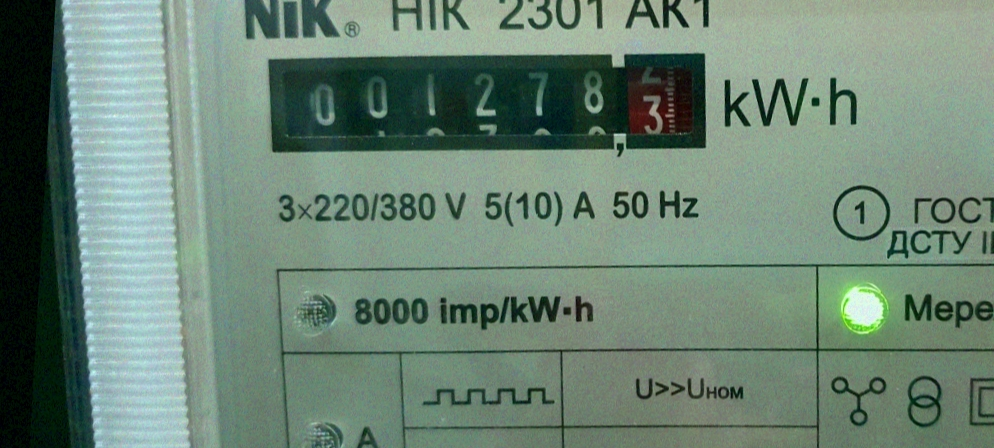0: (309, 78, 340, 128), (362, 72, 390, 120)
1: (421, 69, 441, 118)
2: (469, 69, 499, 117), (636, 63, 663, 86)
3: (637, 89, 666, 134)
7: (524, 67, 549, 117)
8: (578, 67, 606, 115)
screen: (243, 16, 727, 186)
